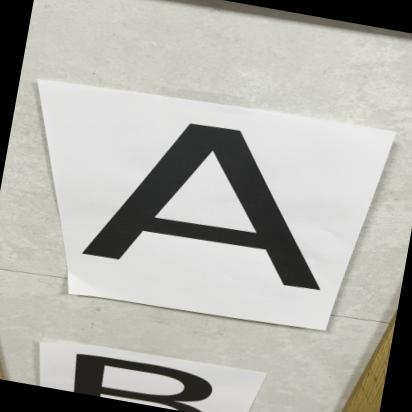seat: (66, 97, 372, 313)
